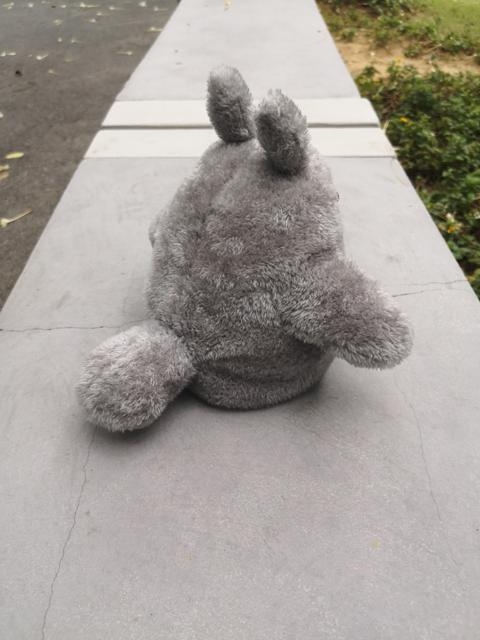totoro: (70, 63, 417, 445)
